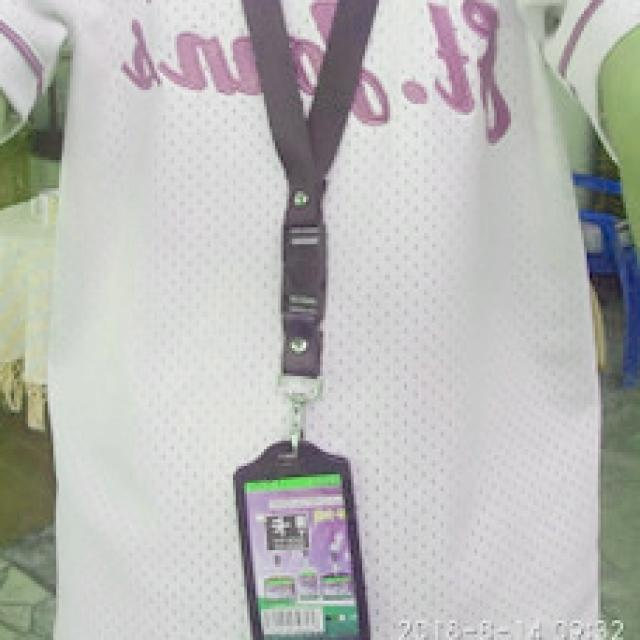ID_card: (230, 432, 370, 640)
